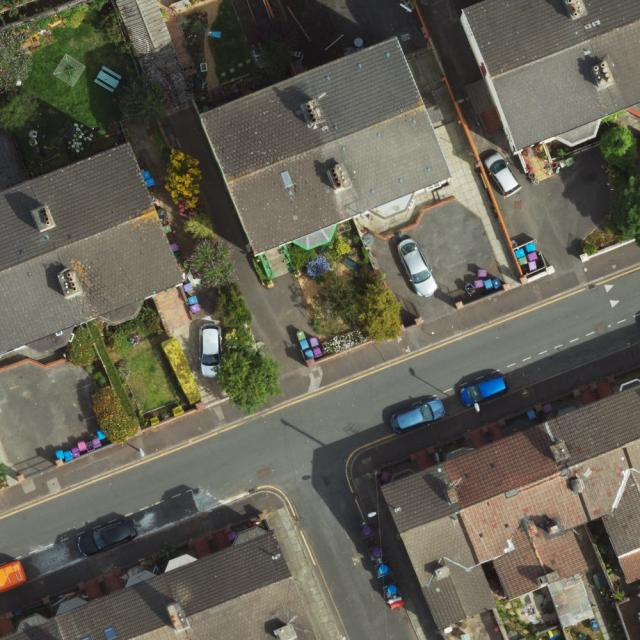roof: (379, 384, 640, 630), (199, 36, 451, 258), (0, 145, 185, 354), (4, 531, 316, 640), (465, 0, 640, 156)
skylight: (276, 164, 298, 192), (100, 624, 120, 640), (79, 634, 92, 640)
